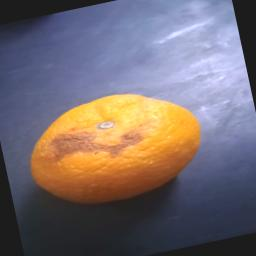Orange Unripe: (14, 68, 216, 218)
